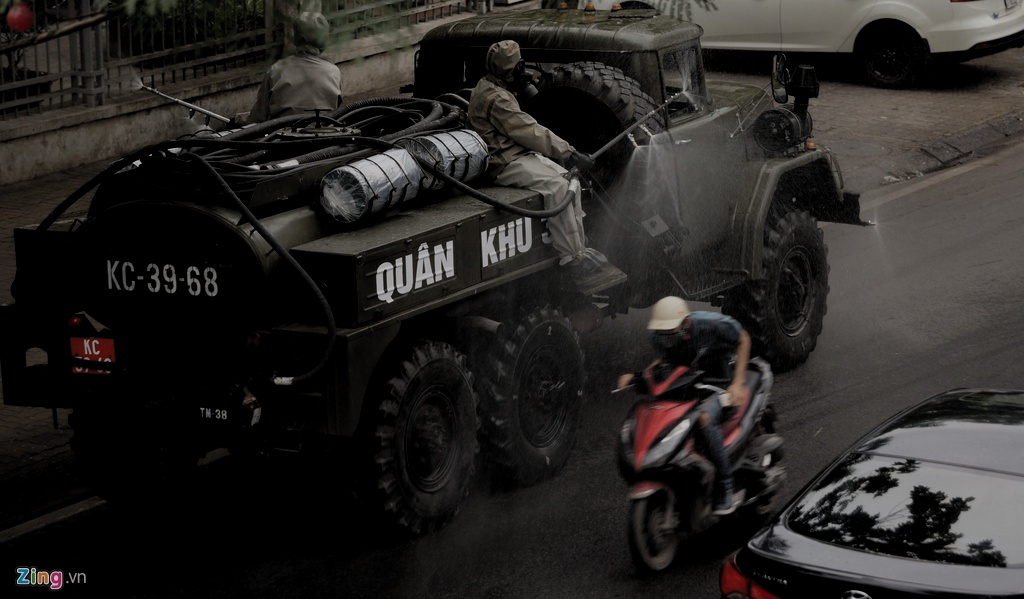plate: (65, 335, 116, 378)
